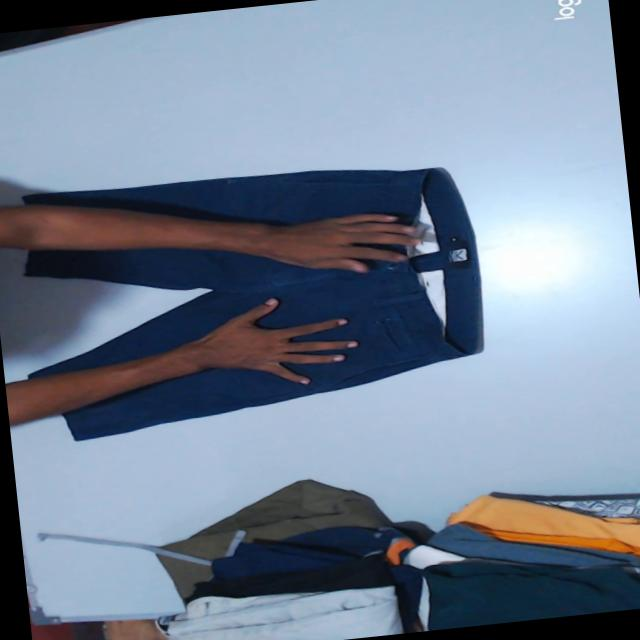new-garment: (23, 167, 481, 439)
